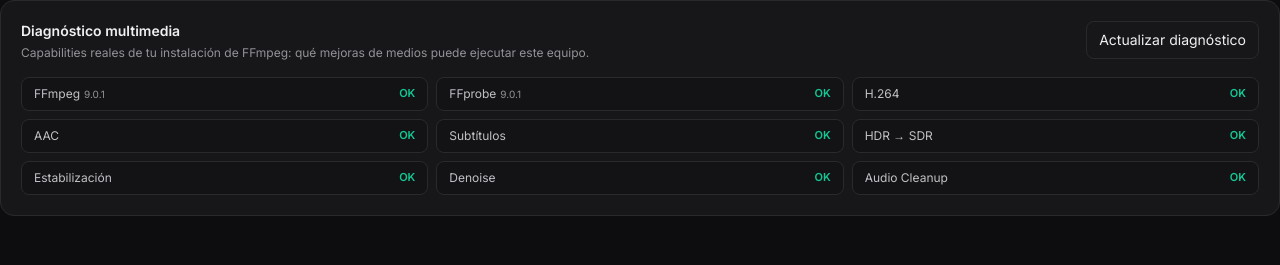
Test case: Diagnóstico multimedia › mantiene el último diagnóstico ante error de refresh y permite reintentar
Expected: the text "HDR → SDR" is shown, x1=865 y1=128 x2=933 y2=144
Click the button "Actualizar diagnóstico" at (1173, 40), box x1=1086 y1=21 x2=1259 y2=59
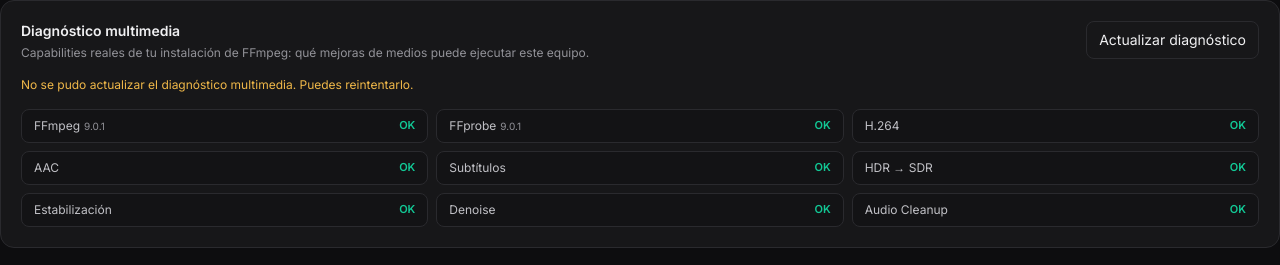
Result: the message shows "No se pudo actualizar" at x1=21 y1=77 x2=414 y2=92
Click the button "Actualizar diagnóstico" at (1173, 40), box x1=1086 y1=21 x2=1259 y2=59
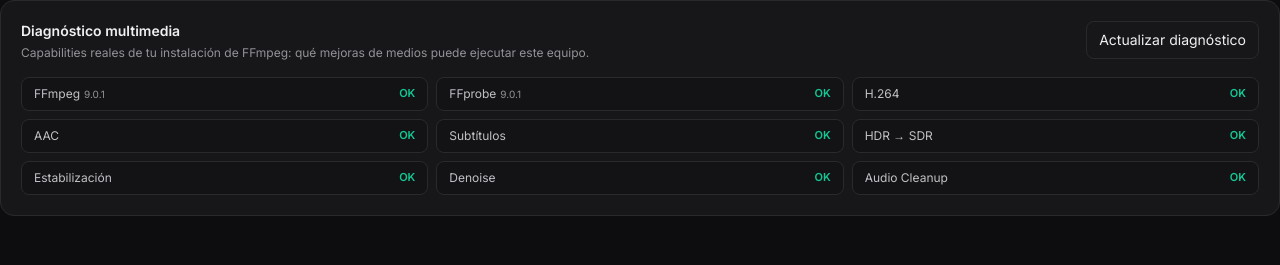
Result: the message "No se pudo actualizar el diagnóstico multimedia. Puedes reintentarlo." is gone
